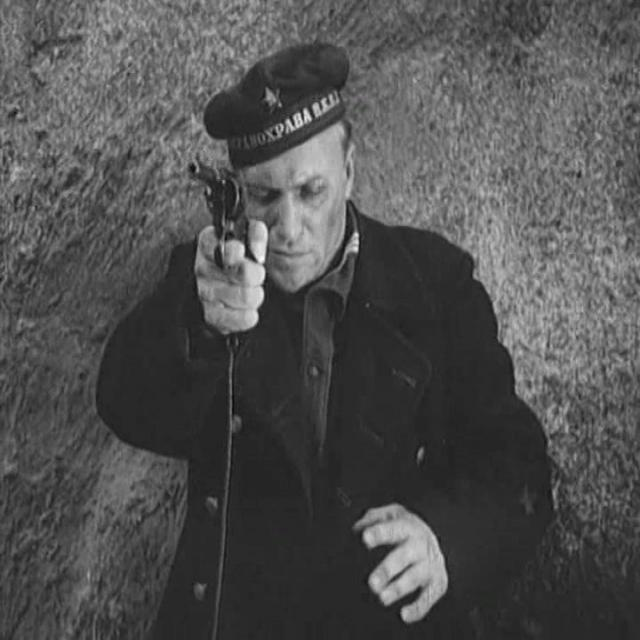gun-knife-thesis - v11 Yolov5 augmented: (192, 163, 263, 269)
